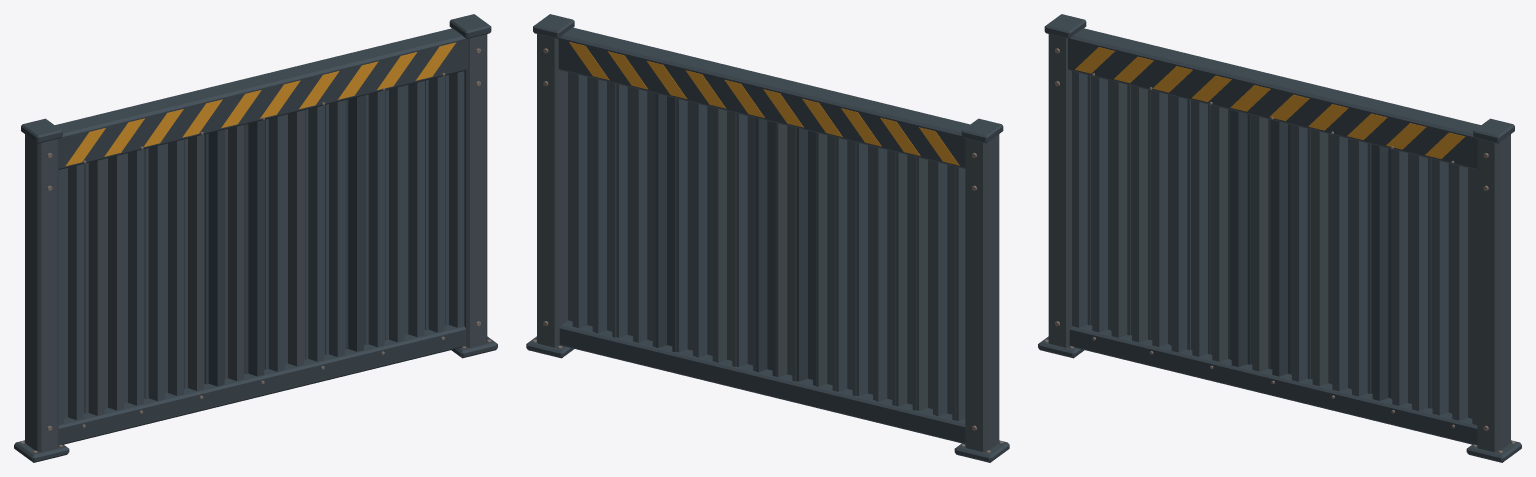
Rendered from wsc-module-023-corrugated-yard-fence.glb.
The picture shows the model from 3 angles, left to right: view 1: azimuth 30°, elevation 25°; view 2: azimuth 150°, elevation 25°; view 3: azimuth 330°, elevation 25°; orthographic projection.
Visible parts, largest first — view 1: slate1, slate3, slate0, painted; view 2: slate1, slate3, slate0, painted; view 3: slate1, slate3, slate0, painted.
Boxes of the visible parts, left/top/right/bottom form: slate1: left=58, top=71, right=464, bottom=424; slate3: left=25, top=34, right=487, bottom=452; slate0: left=14, top=14, right=497, bottom=462; painted: left=65, top=42, right=456, bottom=166; slate1: left=568, top=72, right=965, bottom=420; slate3: left=537, top=34, right=999, bottom=452; slate0: left=526, top=14, right=1009, bottom=462; painted: left=569, top=42, right=959, bottom=165; slate1: left=1072, top=71, right=1477, bottom=424; slate3: left=1048, top=34, right=1510, bottom=452; slate0: left=1038, top=14, right=1521, bottom=462; painted: left=1075, top=47, right=1465, bottom=159.
Size of the model in its own units: 3.42 by 2.28 by 0.253.
